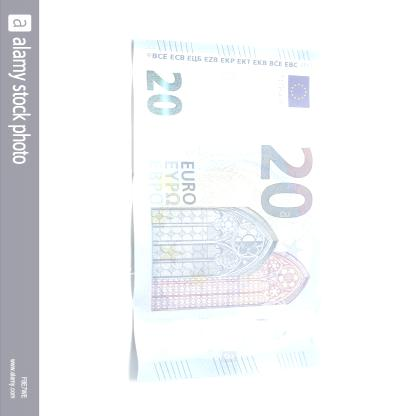euro_banknote: (57, 116, 399, 305)
